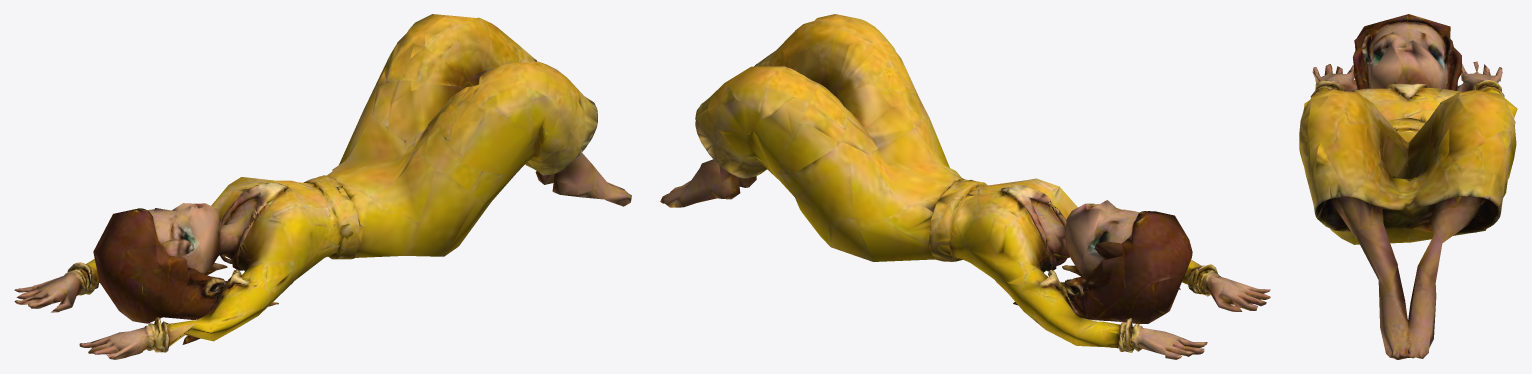
Rendered from ancestor_8.glb.
3 renders of one model, left to right at view 1: azimuth 30°, elevation 25°; view 2: azimuth 150°, elevation 25°; view 3: azimuth 270°, elevation 25°, orthographic. The views are drawn at different scales.
Size of the model in its own units: 1.91 by 0.6143 by 0.6117.
Materials: 1 (1 with a texture image).
